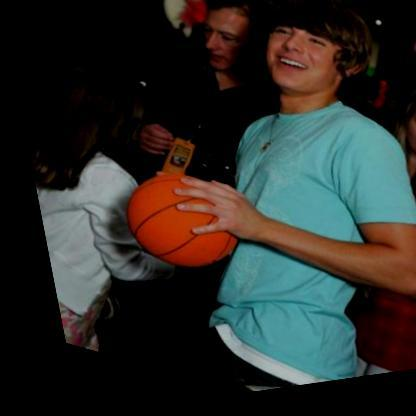basketball: (94, 153, 248, 294)
